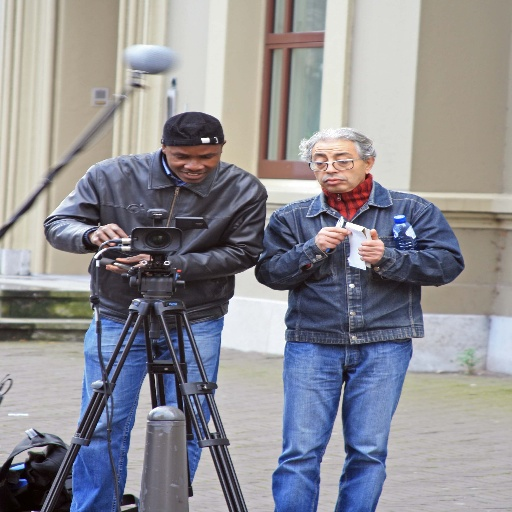hand: (104, 251, 152, 275), (90, 221, 128, 247), (314, 226, 351, 252), (358, 228, 384, 264)
